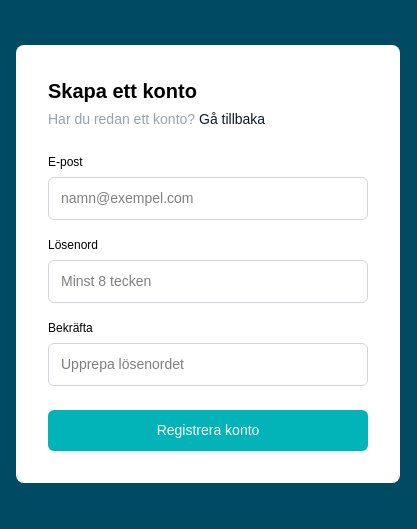
Test: SignupPage › Shows network error on failed signup
Type "test@test.com" into the field labelled "E-post".
click(208, 198); type("test@test.com")  # box x1=48 y1=177 x2=368 y2=220
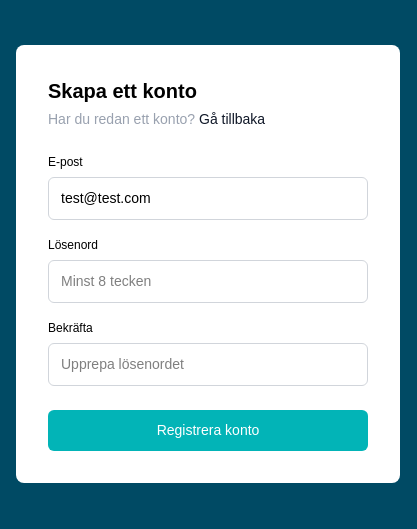
Type "password123" into the password field labelled "Lösenord".
click(208, 282); type("password123")  # box x1=48 y1=260 x2=368 y2=303
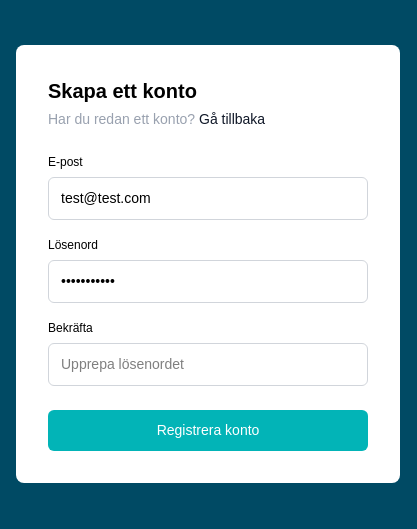
Type "password123" into the password field labelled "Bekräfta".
click(208, 364); type("password123")  # box x1=48 y1=343 x2=368 y2=386
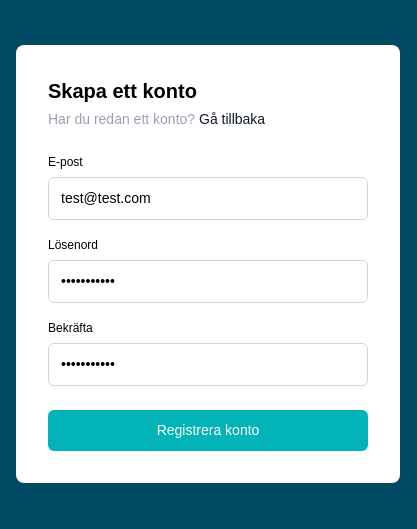
Submit the form from the button "Registrera konto", box x1=48 y1=410 x2=368 y2=451
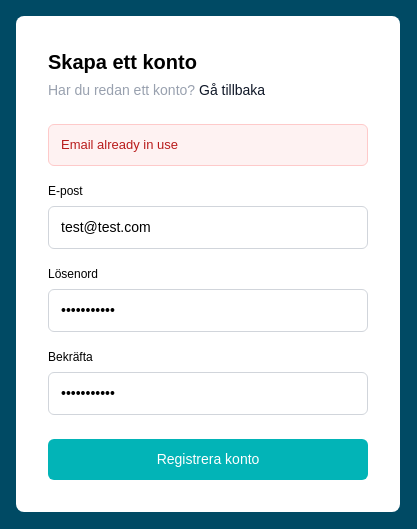
Result: the text "Email already in use" is shown at x1=48 y1=124 x2=368 y2=166
